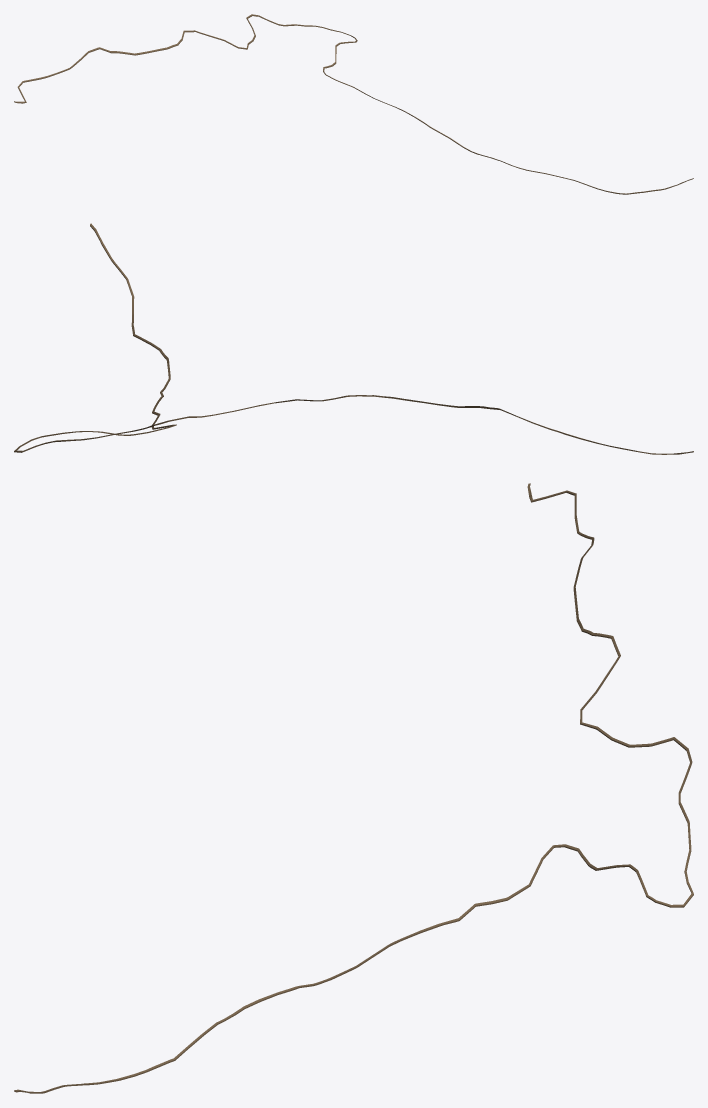
3 views of the same model, one above another, from view 1: azimuth 30°, elevation 25°; view 2: azimuth 150°, elevation 25°; view 3: azimuth 270°, elevation 25° (orthographic). The views are drawn at different scales.
Bounding box in the file's own units: 586 × 141 × 381.
